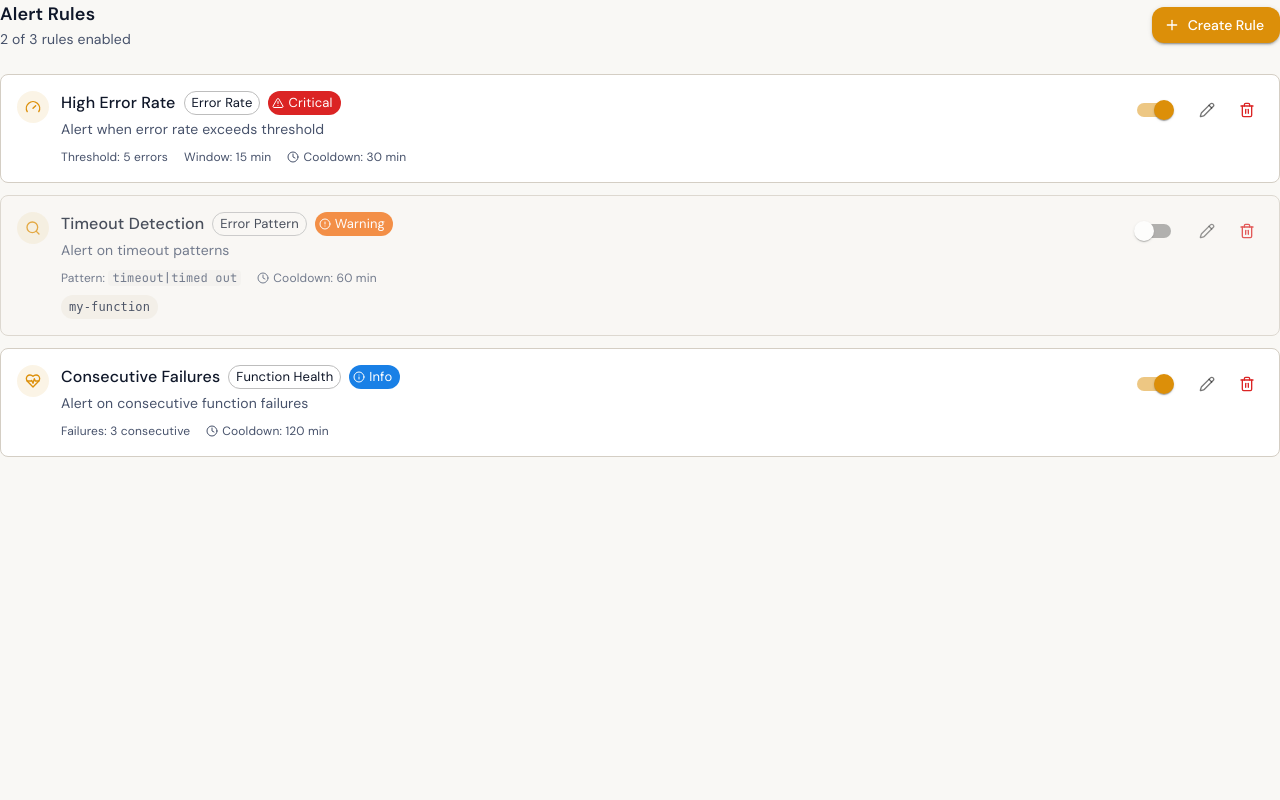
Test case: AdminAlertRules › editing loads the rule › re-seeds when a different rule is opened
This screenshot has width=1280, height=800.
What coordinates should you click on to do the following:
click the button named "Edit High Error Rate"
I would click on:
 (1207, 110)
Its box is [1191,94,1223,126].
(page scrolled)
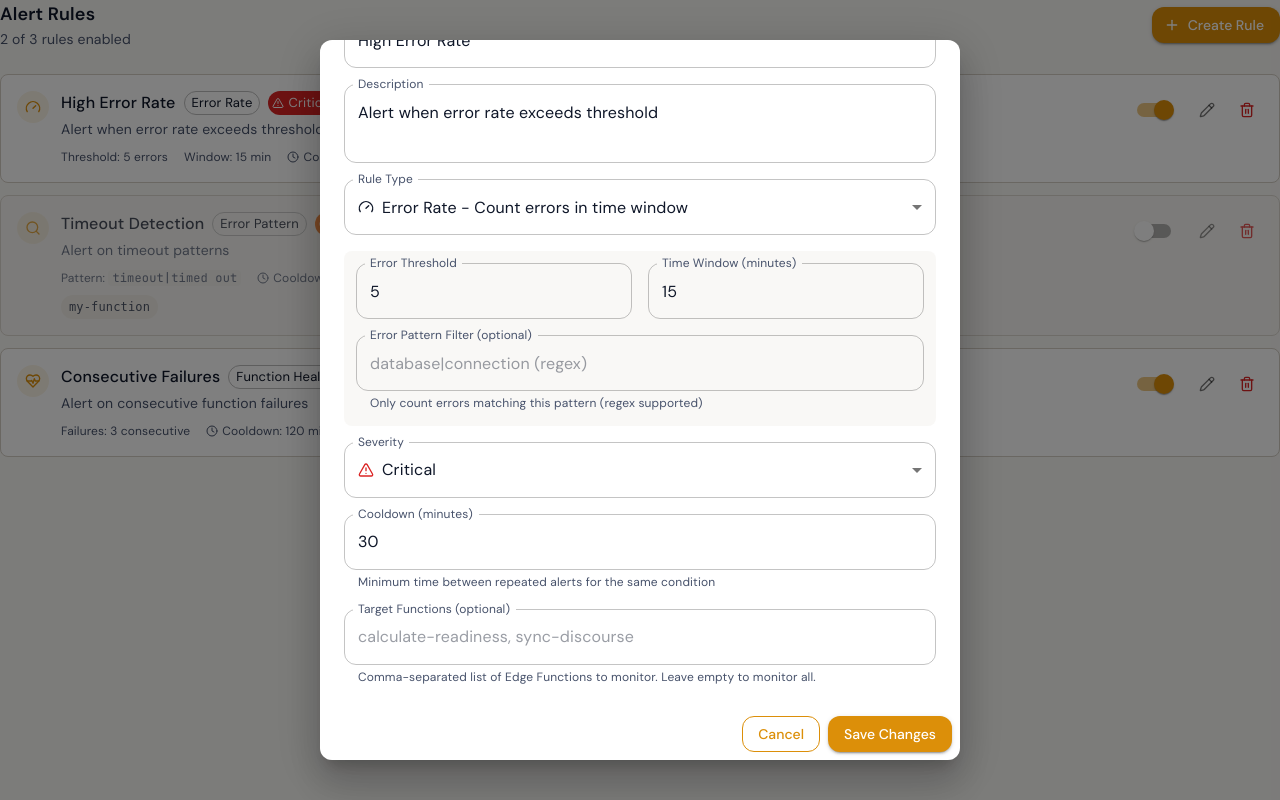
What coordinates should you click on to do the following:
click the button "Cancel"
I would click on:
 (781, 734)
Its box is [742,716,820,752].
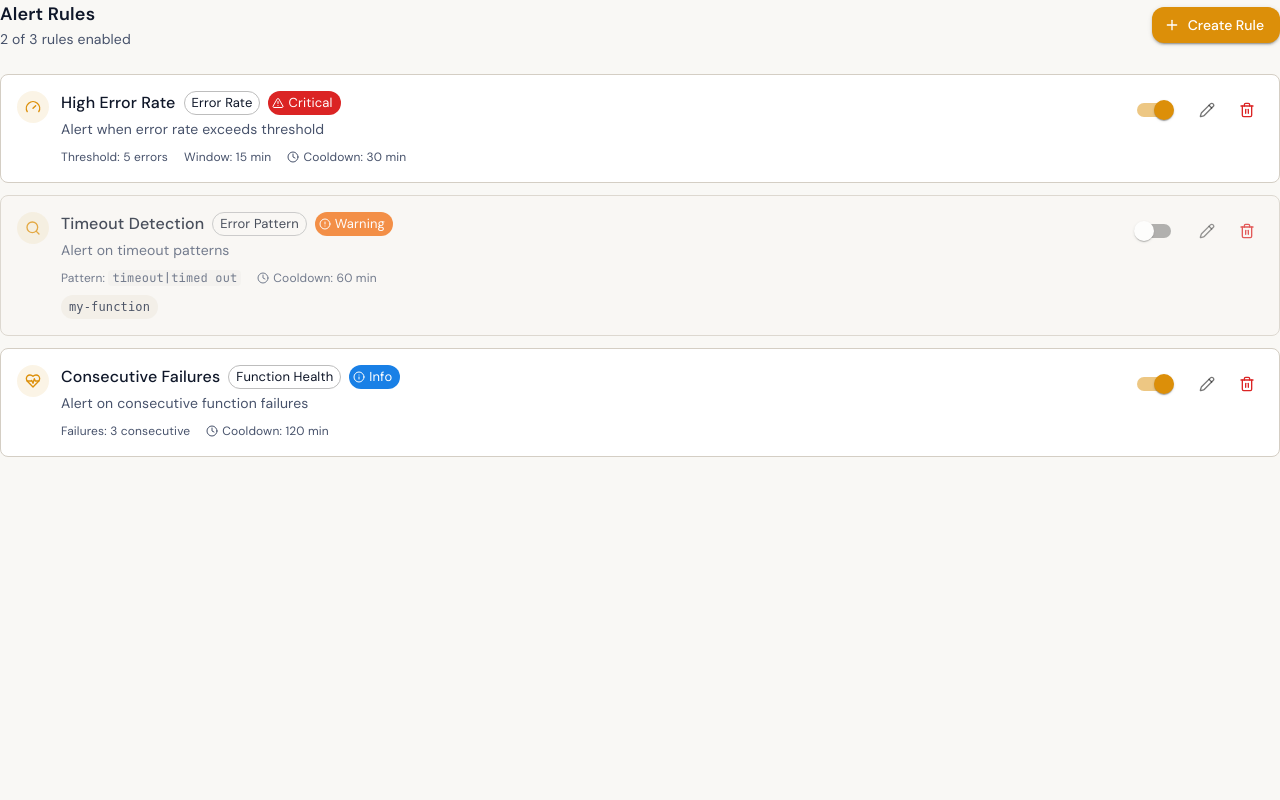
Expected: the dialog is gone
What coordinates should you click on to do the following:
click the button named "Edit Timeout Detection"
I would click on:
 (1207, 231)
Its box is [1191,215,1223,247].
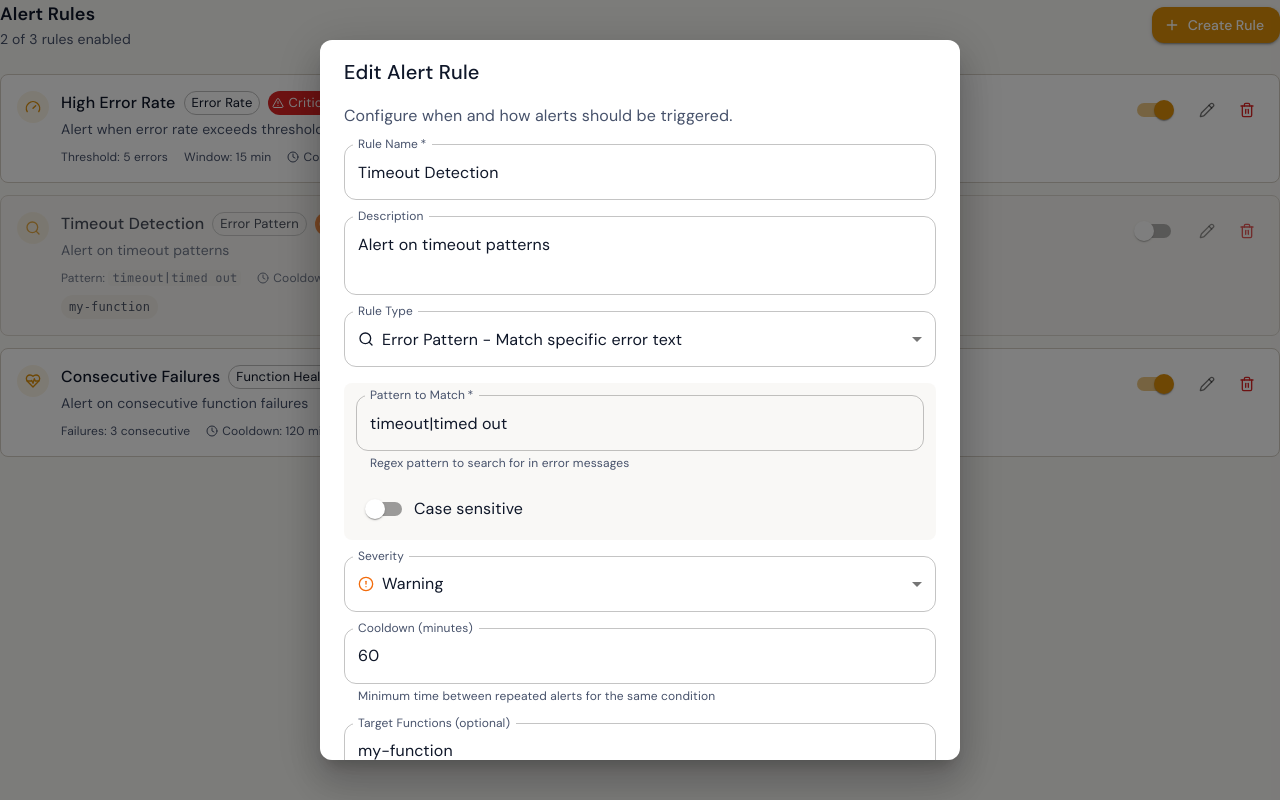
Expected: the field labelled "Rule Name *" holds "Timeout Detection", [344,144,936,200]
Expected: the field labelled "Pattern to Match *" holds "timeout|timed out", [356,395,924,451]
